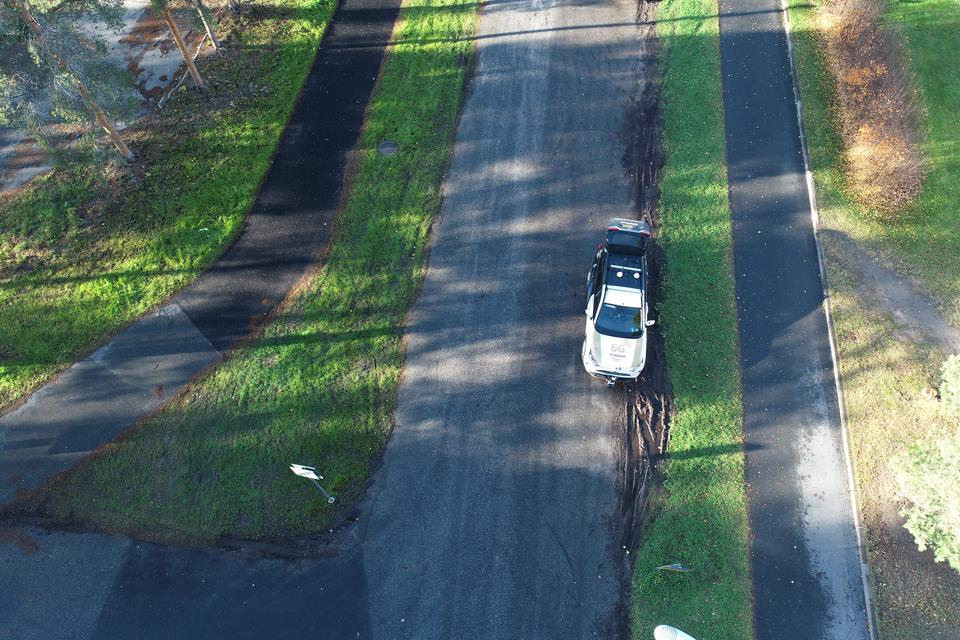intersection: (0, 349, 678, 640)
